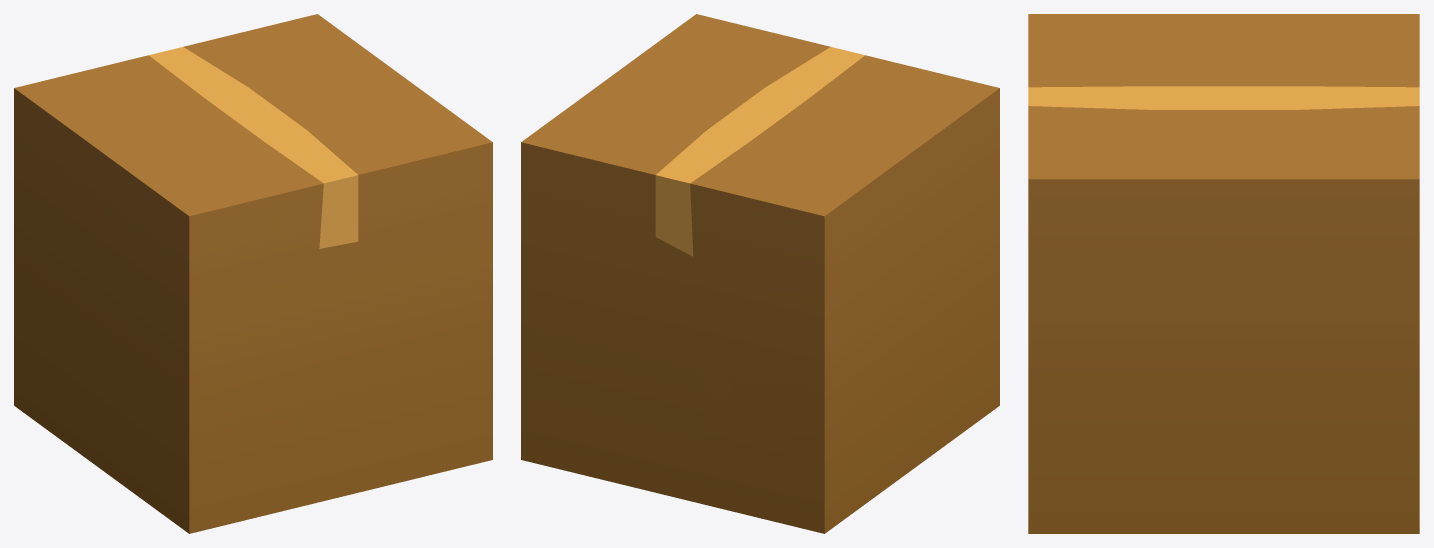
The picture shows the model from 3 angles, left to right: view 1: azimuth 30°, elevation 25°; view 2: azimuth 150°, elevation 25°; view 3: azimuth 270°, elevation 25°; orthographic projection. The views are drawn at different scales.
Parts seen in each view (by area): view 1: Box_2; view 2: Box_2; view 3: Box_2.
Part boxes in pixels (bbox=[...]): Box_2: bbox=[14, 14, 492, 533]; Box_2: bbox=[521, 14, 999, 533]; Box_2: bbox=[1028, 14, 1419, 533].
Size of the model in its own units: 46.3 by 46.3 by 46.3.
